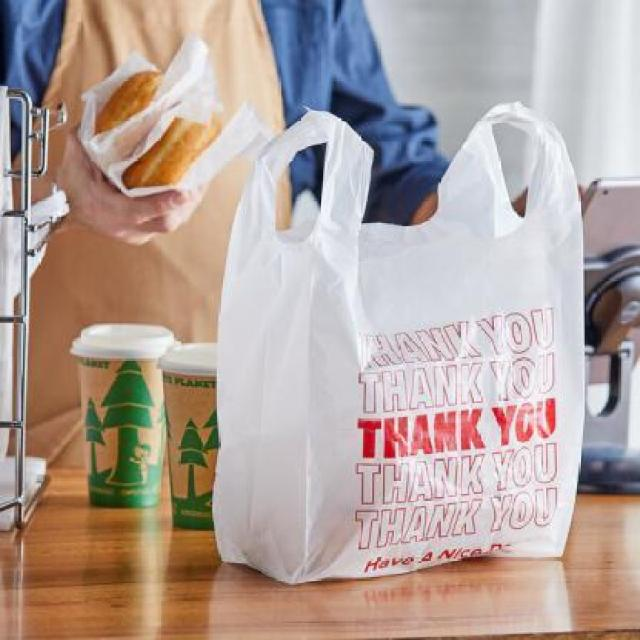plastic bag: (206, 97, 614, 596)
